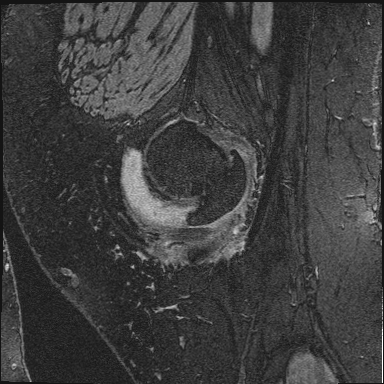effusion: (123, 150, 150, 224)
